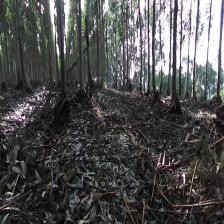trunk: (56, 4, 68, 98), (216, 5, 224, 97), (171, 4, 178, 102), (78, 4, 85, 94), (152, 5, 157, 92), (138, 8, 143, 83), (147, 8, 150, 92)
